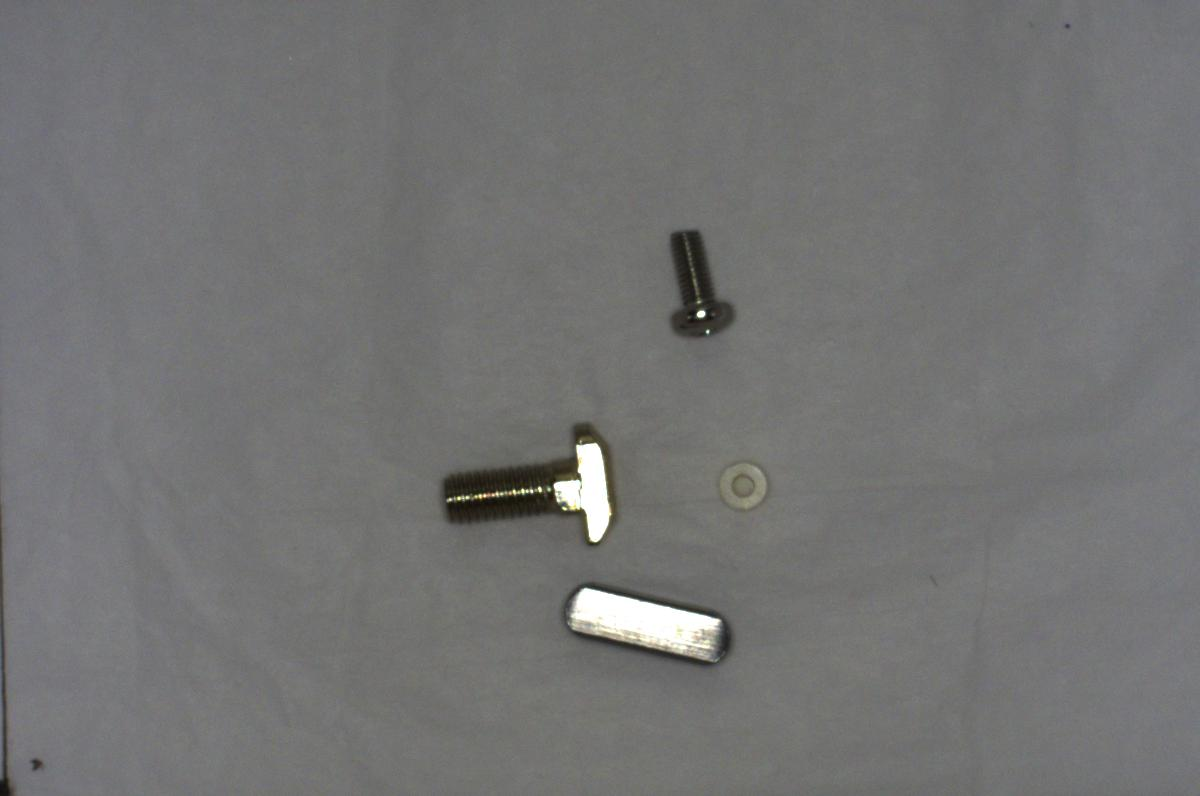Keybar: (558, 579, 734, 670)
Plastic cushion pillar: (702, 445, 782, 520)
Round head screw: (662, 213, 737, 347)
T-shaped screw: (412, 413, 641, 566)
